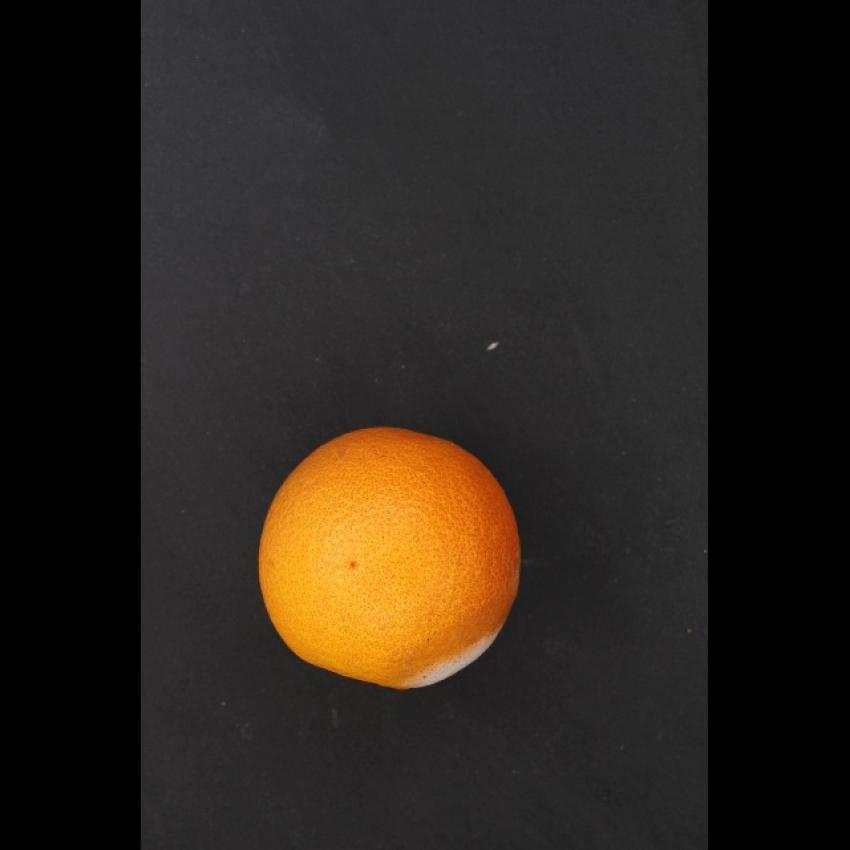Mal estado: (250, 406, 529, 699)
